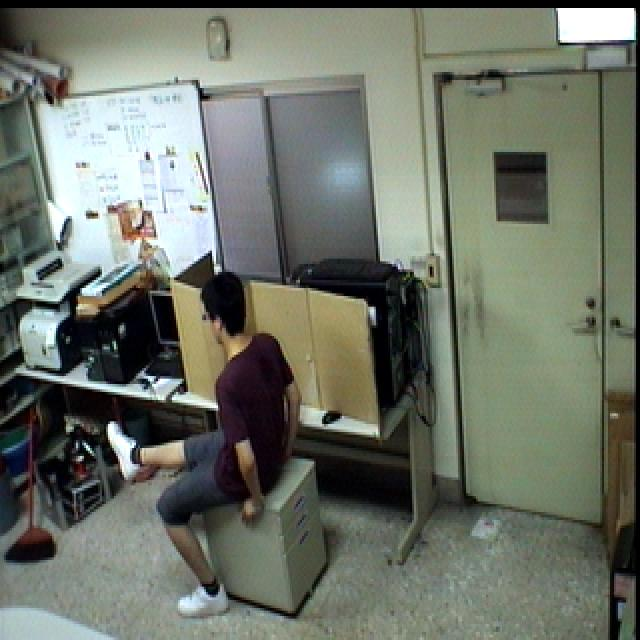sit: (101, 274, 308, 628)
